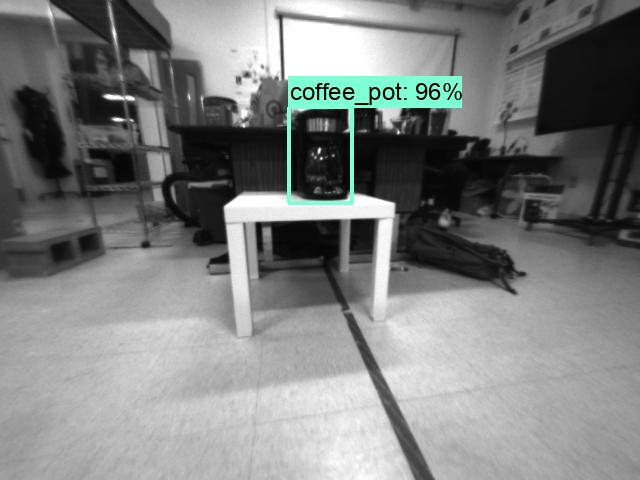coffee_pot: (292, 106, 350, 200)
